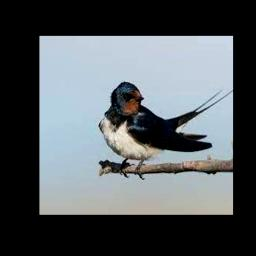Swallow: (100, 82, 233, 176)
